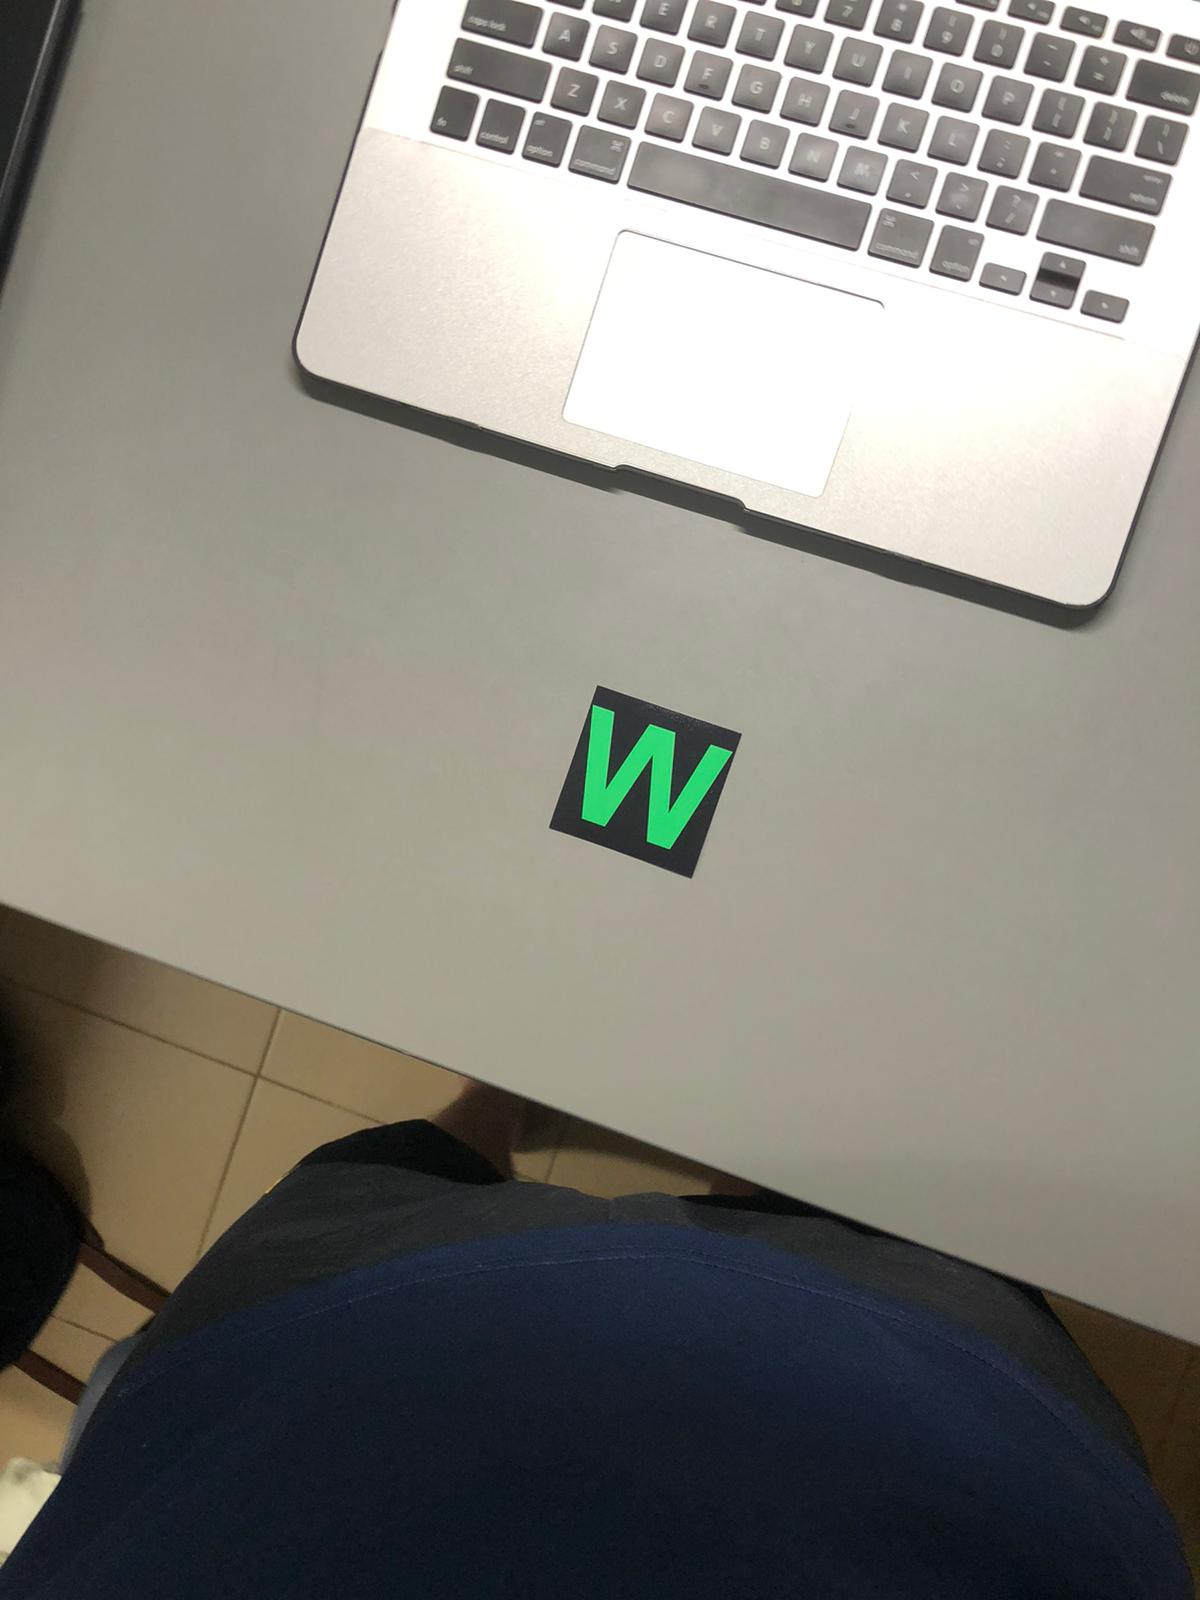W: (558, 688, 725, 867)
